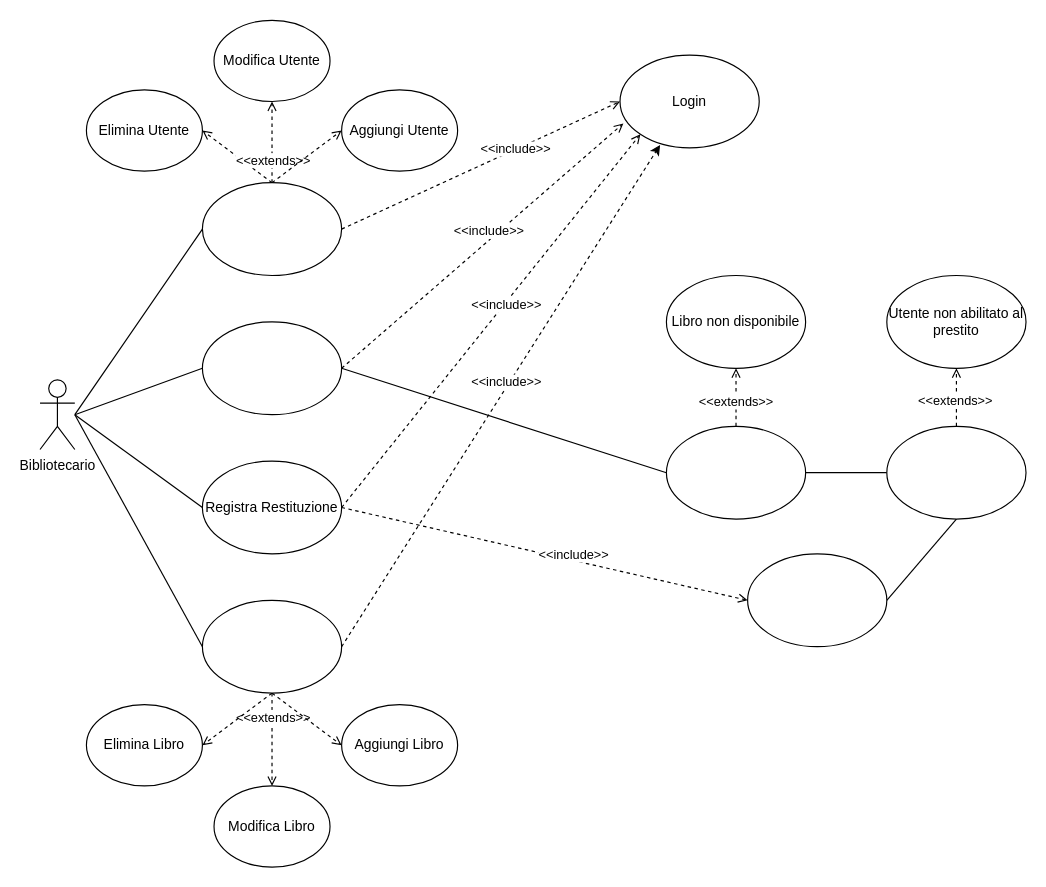
The diagram is 1046 pixels wide and 887 high, and some of its shapes have lost their labels. Each missing label, with the centre of its shape:
Gestione Utenti: (x=271, y=229)
Modifica libri: (x=271, y=646)
Prestito Registrato: (x=816, y=600)
Registra Prestito: (x=271, y=368)
Seleziona Libro: (x=735, y=472)
Seleziona Utente: (x=956, y=472)
